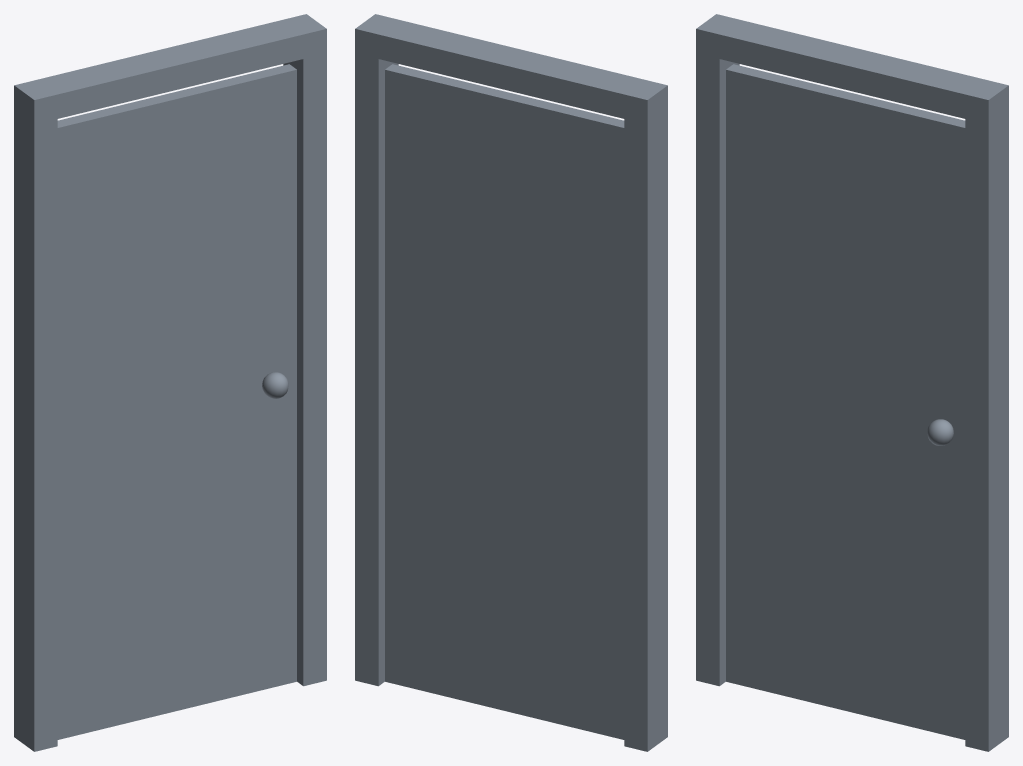
The model's file is door.glb.
The picture shows the model from 3 angles, left to right: view 1: azimuth 30°, elevation 25°; view 2: azimuth 150°, elevation 25°; view 3: azimuth 330°, elevation 25°; orthographic projection.
Visible parts, largest first — view 1: door; view 2: door; view 3: door.
Boxes of the visible parts, <box> form: door: <box>14,14,326,751</box>; door: <box>355,14,667,751</box>; door: <box>696,14,1008,751</box>.
Bounding box in the file's own units: 1 × 2.13 × 0.15.
